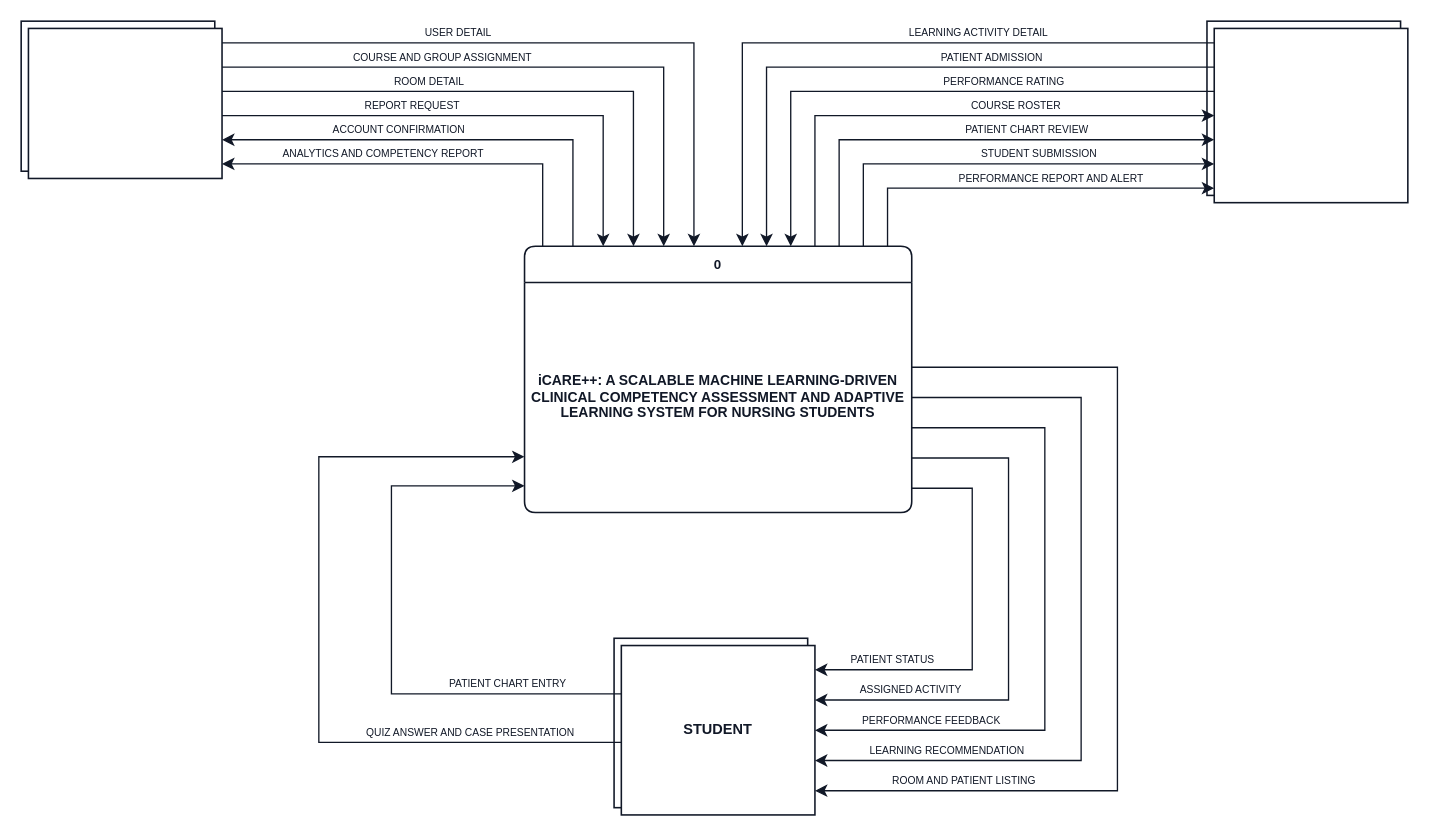
The diagram is 1430 pixels wide and 837 high, and some of its shapes have lost their labels. The centre of each missing label's shape, as x and y in pixels:
"DEAN" goes at [124,103].
"INSTRUCTOR" goes at [1310,115].
